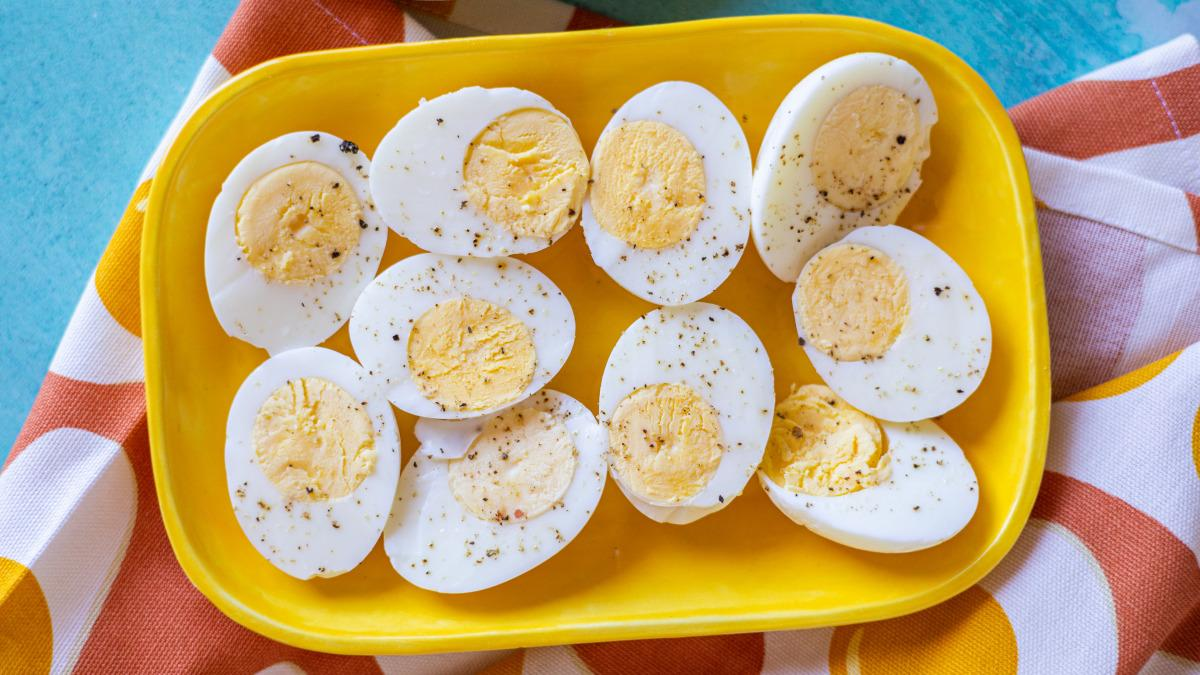eggs: (177, 89, 991, 561)
